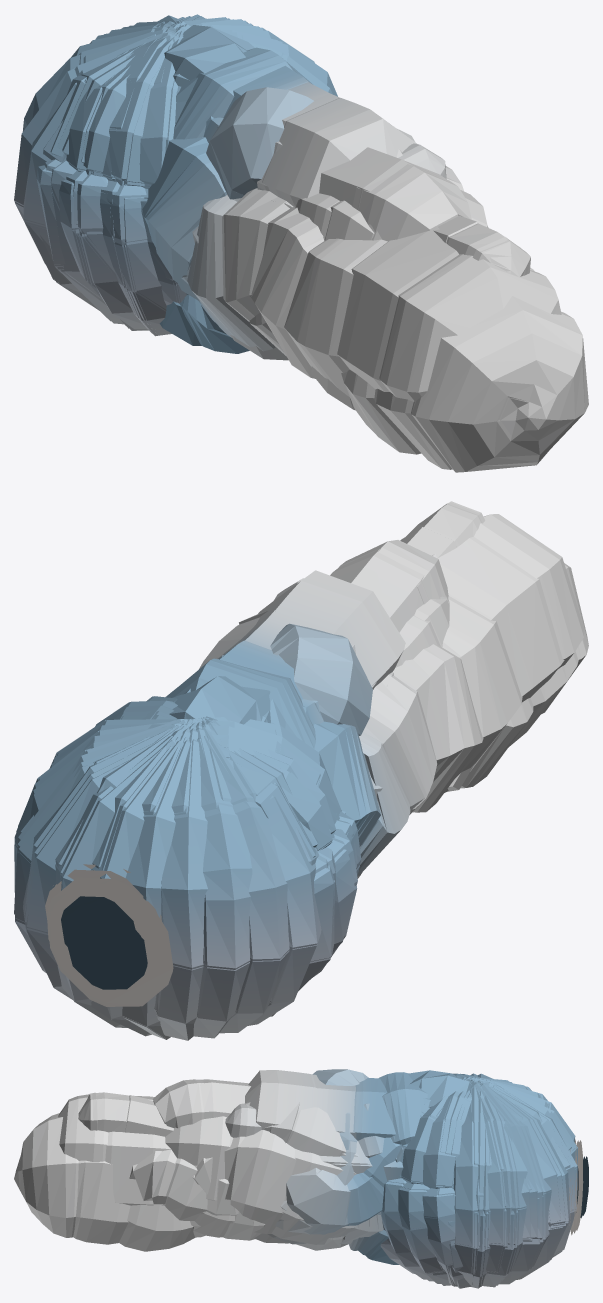
Rendered from Ghost.fbx.
3 views of the same model, one above another, from view 1: azimuth 30°, elevation 25°; view 2: azimuth 150°, elevation 25°; view 3: azimuth 270°, elevation 25° (orthographic). The views are drawn at different scales.
Parts seen in each view (by area): view 1: NewLayer2; view 2: NewLayer2; view 3: NewLayer2.
Part boxes in pixels (left/top/right/bottom): NewLayer2: left=14, top=14, right=588, bottom=472; NewLayer2: left=14, top=501, right=588, bottom=1040; NewLayer2: left=14, top=1069, right=588, bottom=1288.
Bounding box in the file's own units: 2.51 × 2.55 × 6.42.
